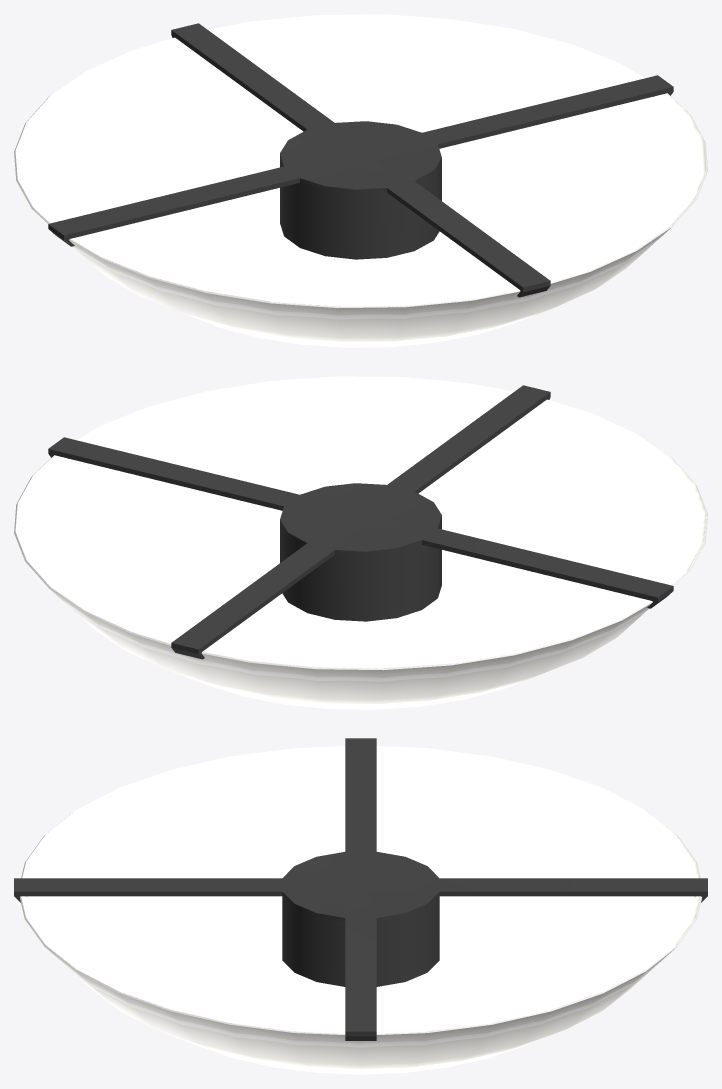
The model's file is ceiling_lamp.glb.
3 views of the same model, one above another, from view 1: azimuth 30°, elevation 25°; view 2: azimuth 150°, elevation 25°; view 3: azimuth 270°, elevation 25° (orthographic).
Visible parts, largest first — view 1: Lamp_01; view 2: Lamp_01; view 3: Lamp_01.
Part boxes in pixels (x1,y1,x2,y2): Lamp_01: (14,14,707,347); Lamp_01: (14,376,707,709); Lamp_01: (14,738,707,1074).
Size of the model in its own units: 169 by 40.47 by 169.
Materials: 3 (3 with a texture image).
